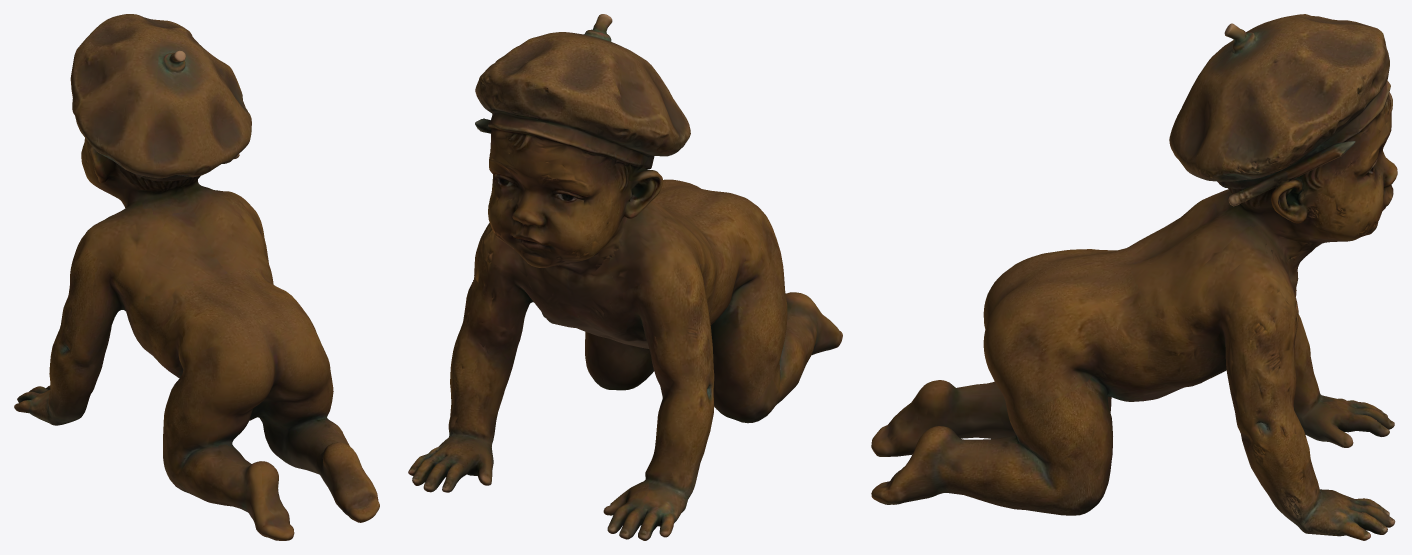
Rendered from mascot-bronze.glb.
3 renders of one model, left to right at view 1: azimuth 30°, elevation 25°; view 2: azimuth 150°, elevation 25°; view 3: azimuth 270°, elevation 25°, orthographic. The views are drawn at different scales.
Visible parts, largest first — view 1: tripo_node_b85e69fa-49d2-422f-8298-ad4c6bdc5c64; view 2: tripo_node_b85e69fa-49d2-422f-8298-ad4c6bdc5c64; view 3: tripo_node_b85e69fa-49d2-422f-8298-ad4c6bdc5c64.
Part boxes in pixels (x1,y1,x2,y2): tripo_node_b85e69fa-49d2-422f-8298-ad4c6bdc5c64: [14, 14, 379, 540]; tripo_node_b85e69fa-49d2-422f-8298-ad4c6bdc5c64: [408, 14, 842, 540]; tripo_node_b85e69fa-49d2-422f-8298-ad4c6bdc5c64: [871, 14, 1397, 540].
Bounding box in the file's own units: 0.5693 × 0.9361 × 0.9797.
Materials: 1 (1 with a texture image).
